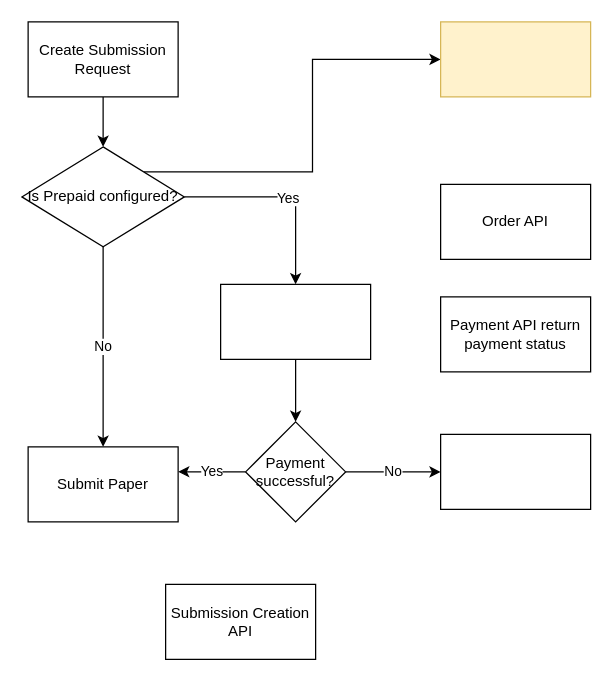
The diagram is 613 pixels wide and 681 high, and some of its shapes have lost their labels. The centre of each missing label's shape, as x and y in pixels:
"Answer Is Prepaid configured" goes at pixel 515 59.
"Notify Submission Request Failed" goes at pixel 515 471.
"Pay for a new submission" goes at pixel 295 321.
